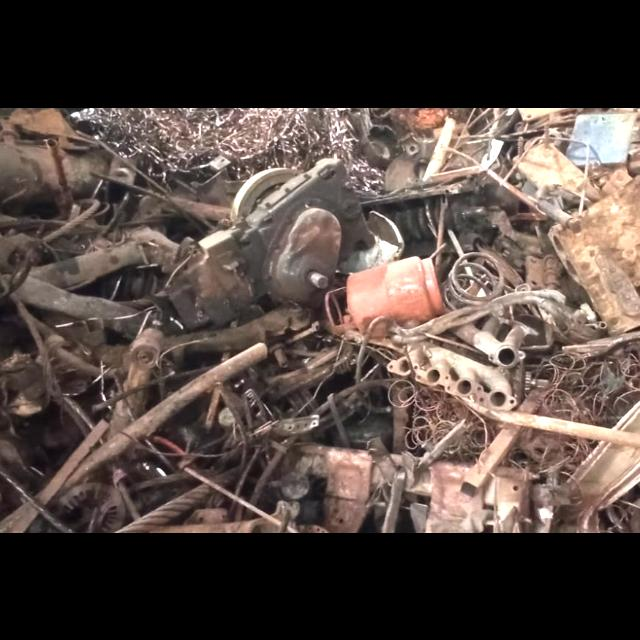Cylinders: (323, 253, 446, 335)
Shock Absorber: (541, 252, 563, 290)
